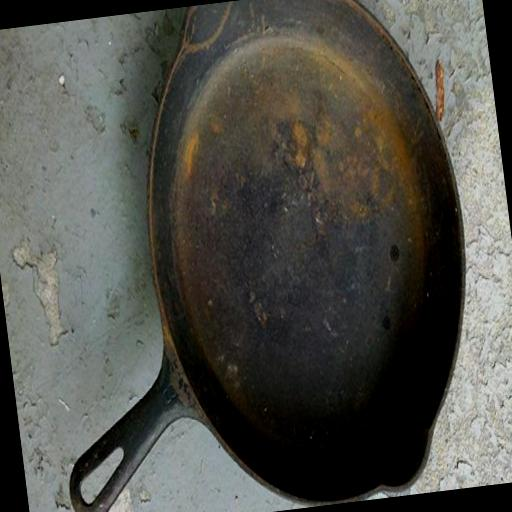segmentation: (234, 21, 502, 340)
